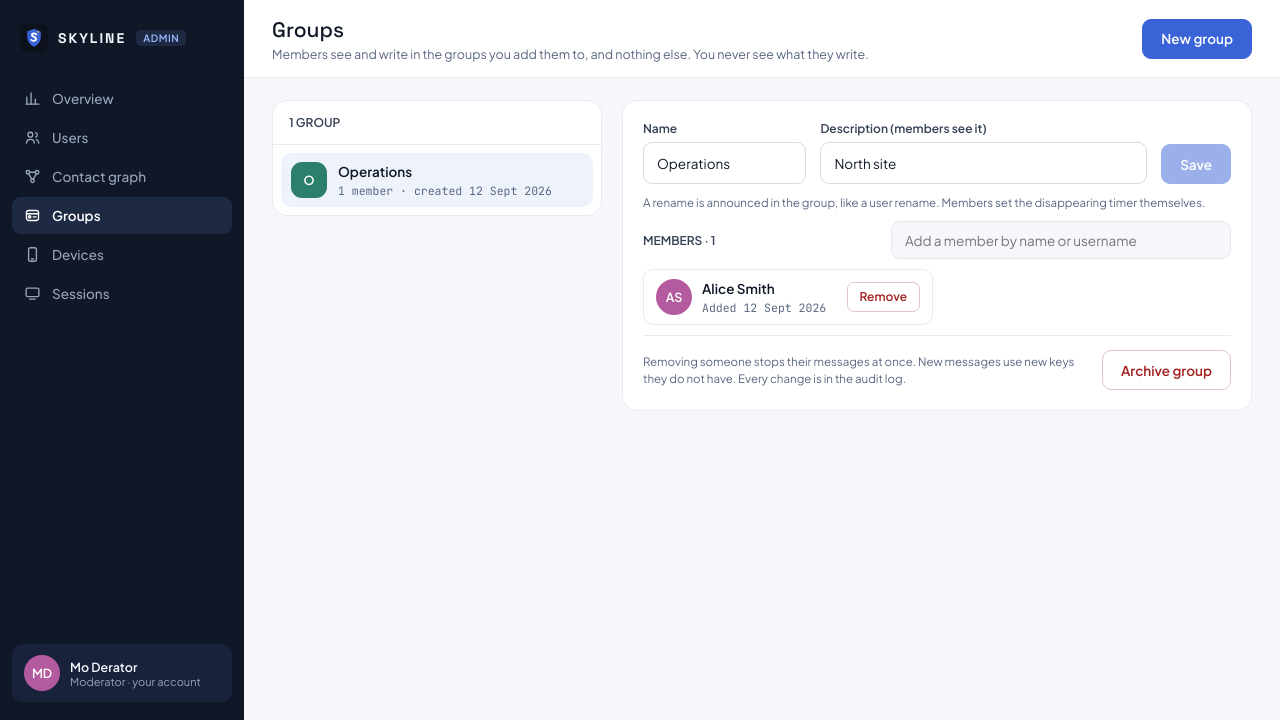
Test: groups (board 31) › a moderator sees the groups, removes a member and adds someone by name
Expected: the field showing "Operations" is shown, [643,142,806,184]
Expected: the text "MEMBERS · 1" is shown, [643,233,715,248]
Click the button with aria-label "Remove Alice Smith" at (883, 297), box [847,282,920,312]
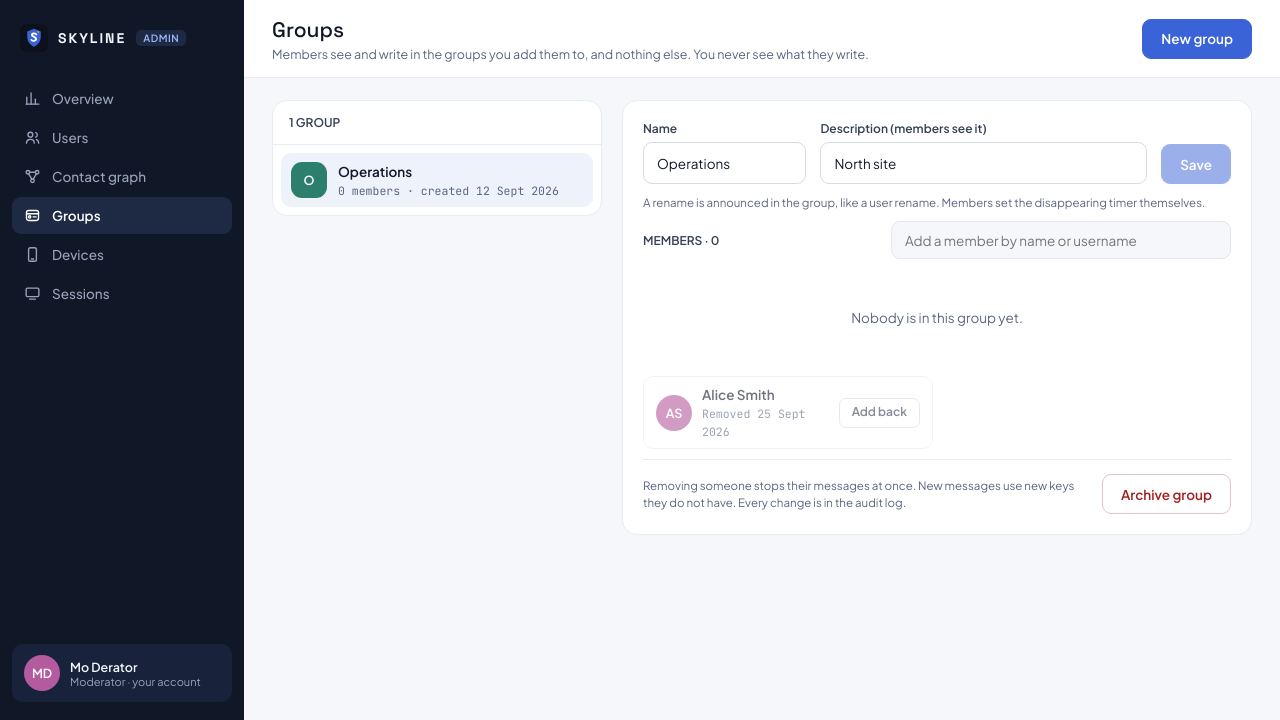
Now the button with aria-label "Add Alice Smith back" is shown, box [839,398,920,428]
Type "bob" into the field labelled "Add a member by name or username" at (1061, 240), box [891,221,1231,259]
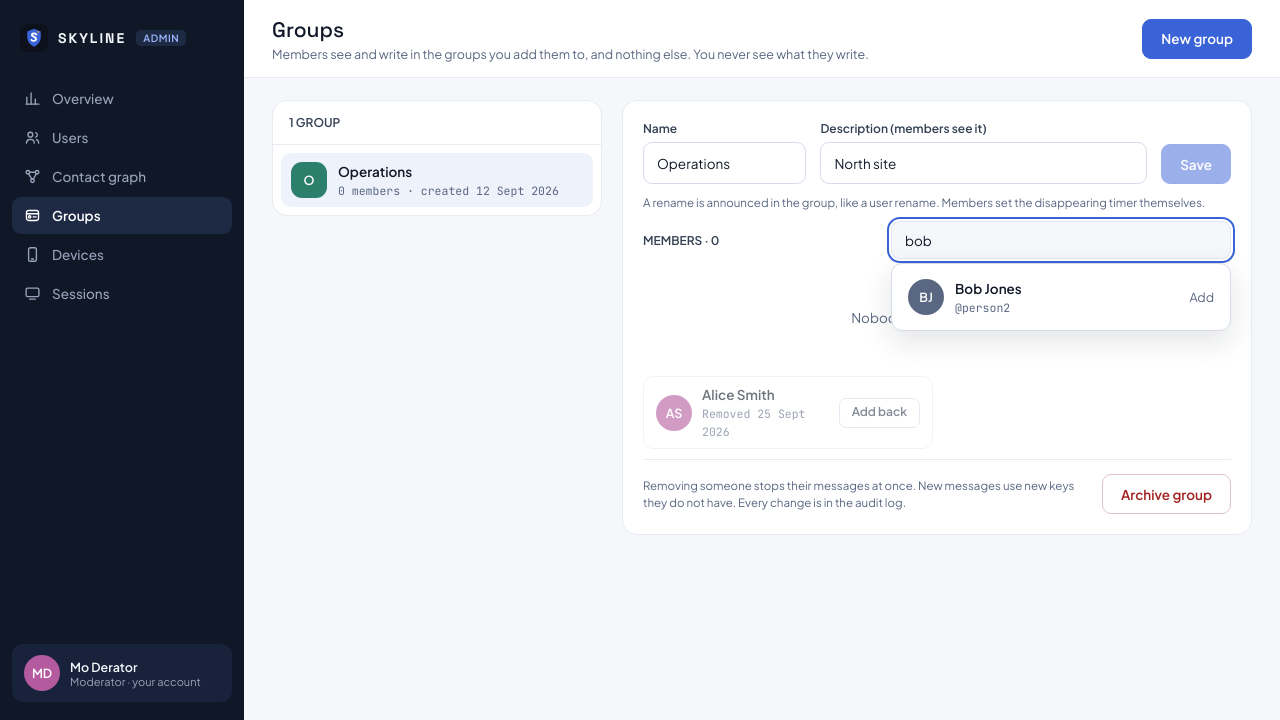
Click the option "BJ Bob Jones @person2 Add" at (926, 297), box [898,270,1224,324]
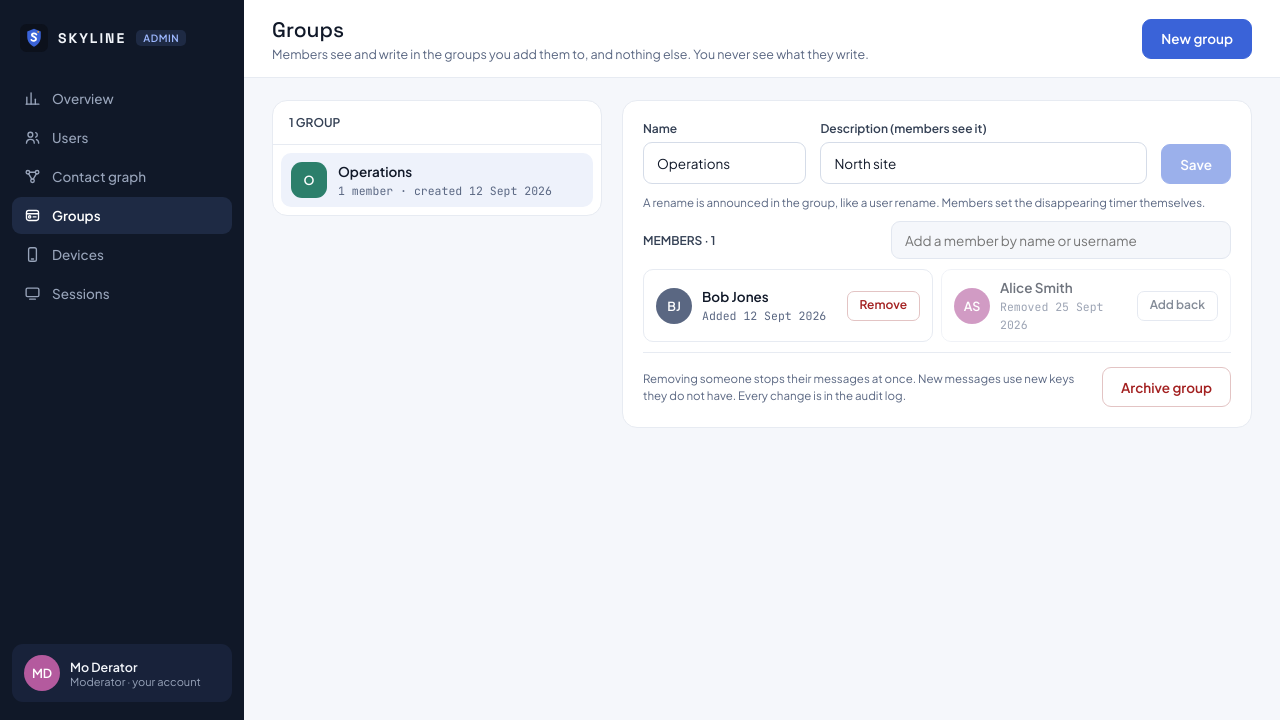
Now the button with aria-label "Remove Bob Jones" is shown, box [847,291,920,321]
